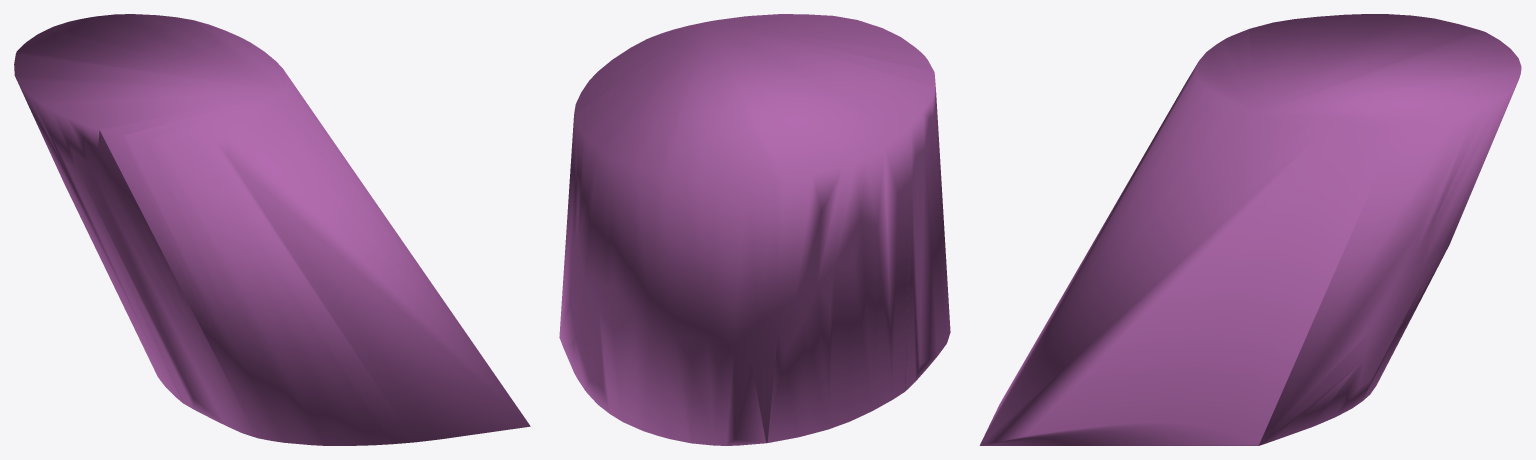
Rendered from bee_toy_1_coacd_single_link_urdf_convex_piece_7.obj.
The picture shows the model from 3 angles, left to right: view 1: azimuth 30°, elevation 25°; view 2: azimuth 150°, elevation 25°; view 3: azimuth 270°, elevation 25°; orthographic projection. The views are drawn at different scales.
Size of the model in its own units: 0.0432 by 0.0355 by 0.0633.
